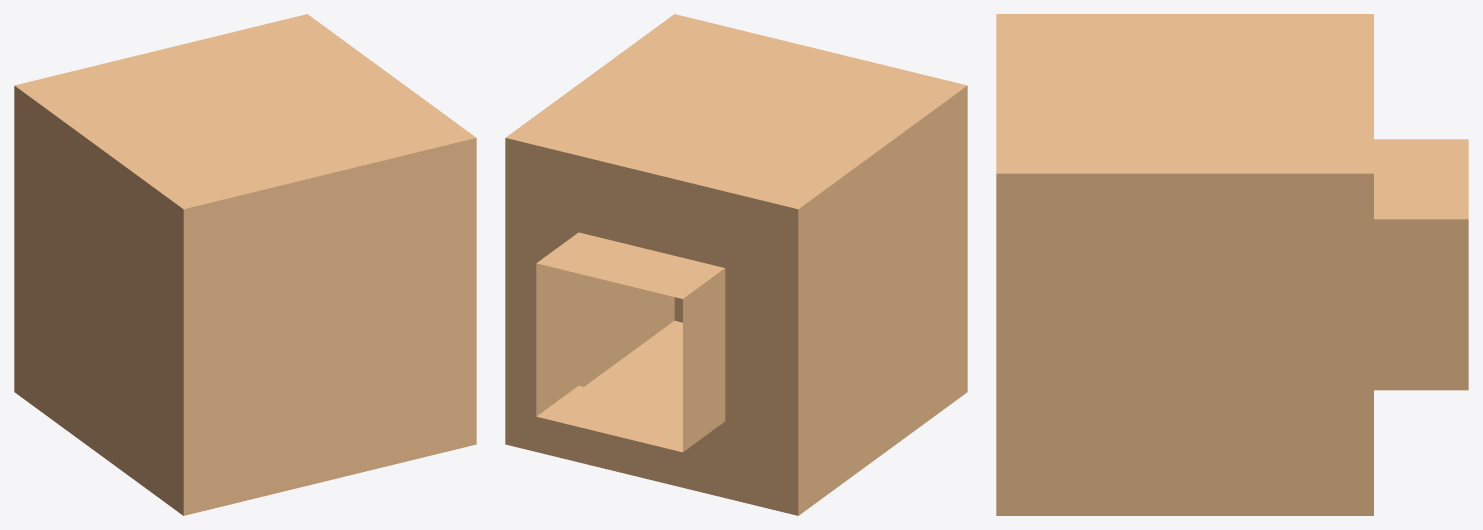
Rendered from cousinHand.fbx.
3 renders of one model, left to right at view 1: azimuth 30°, elevation 25°; view 2: azimuth 150°, elevation 25°; view 3: azimuth 270°, elevation 25°, orthographic. The views are drawn at different scales.
Visible parts, largest first — view 1: hand; view 2: hand; view 3: hand.
Boxes of the visible parts, <box> form: hand: <box>14,14,476,515</box>; hand: <box>505,14,967,515</box>; hand: <box>996,14,1468,515</box>.
Size of the model in its own units: 0.4 by 0.4 by 0.5.
Materials: 1 (1 with a texture image).
